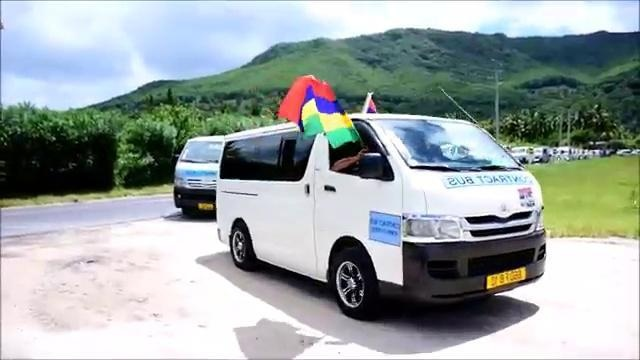van: (210, 111, 549, 319)
